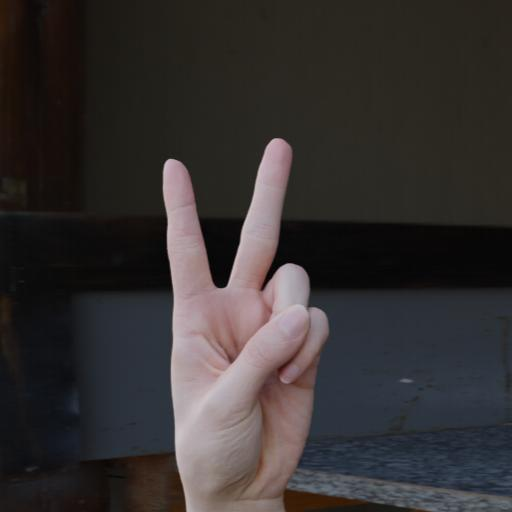V: (147, 126, 341, 512)
